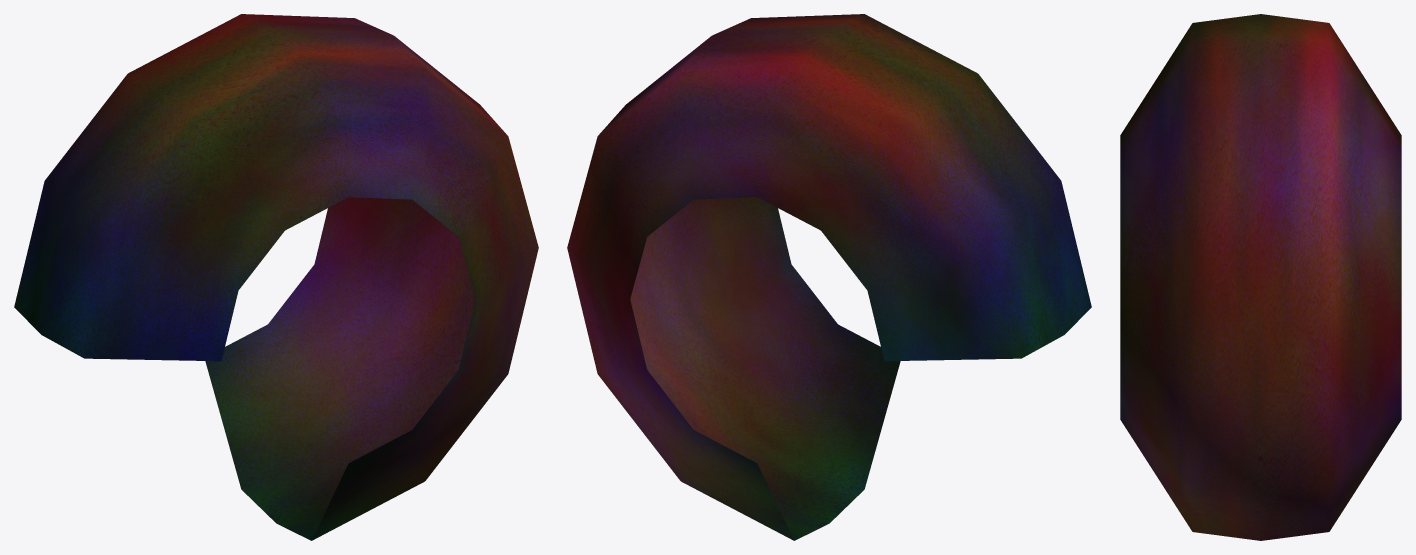
File: SandCurl2.fbx
3 renders of one model, left to right at view 1: azimuth 30°, elevation 25°; view 2: azimuth 150°, elevation 25°; view 3: azimuth 270°, elevation 25°, orthographic. The views are drawn at different scales.
Visible parts, largest first — view 1: pSphere1; view 2: pSphere1; view 3: pSphere1.
Part boxes in pixels (x1,y1,x2,y2): pSphere1: (14,14,538,540); pSphere1: (567,14,1091,540); pSphere1: (1120,14,1401,540).
Bounding box in the file's own units: 137 × 137 × 72.9.
Materials: 1 (1 with a texture image).
